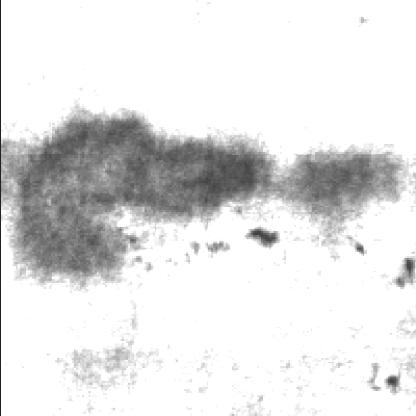patches: (16, 119, 274, 282), (294, 150, 404, 231)
